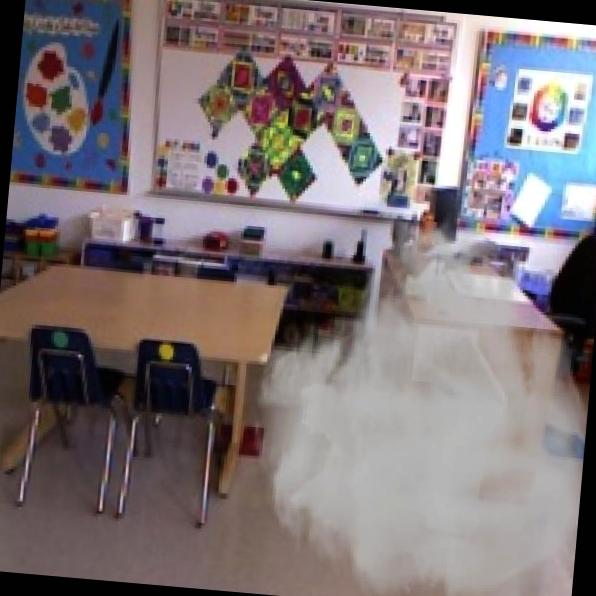smoke: (235, 181, 596, 596)
